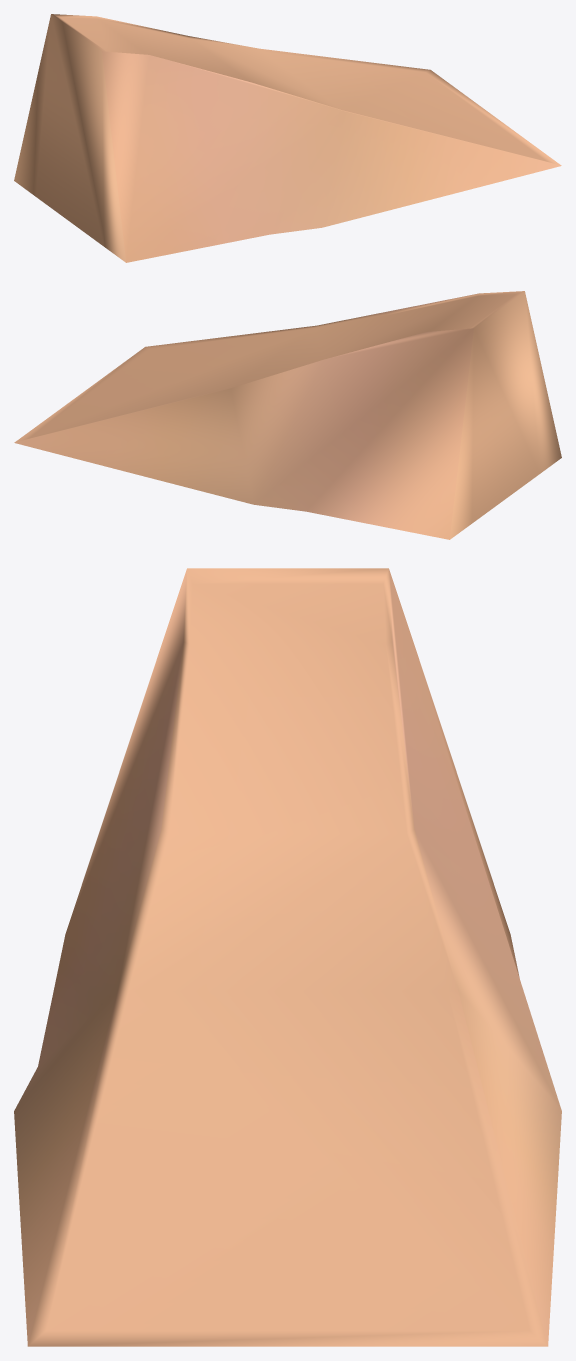
The model's file is DirtBikeSandTrackJumpNarrowLanding.glb.
3 views of the same model, one above another, from view 1: azimuth 30°, elevation 25°; view 2: azimuth 150°, elevation 25°; view 3: azimuth 270°, elevation 25° (orthographic). The views are drawn at different scales.
Visible parts, largest first — view 1: DirtBikeSandTrackJumpNarrowLanding; view 2: DirtBikeSandTrackJumpNarrowLanding; view 3: DirtBikeSandTrackJumpNarrowLanding.
Boxes of the visible parts, x1,y1,x2,y2 form: DirtBikeSandTrackJumpNarrowLanding: [14, 14, 561, 262]; DirtBikeSandTrackJumpNarrowLanding: [14, 291, 561, 539]; DirtBikeSandTrackJumpNarrowLanding: [14, 568, 561, 1346].
Size of the model in its own units: 7.5 by 3.16 by 4.21.
1 material, 1 textured.
